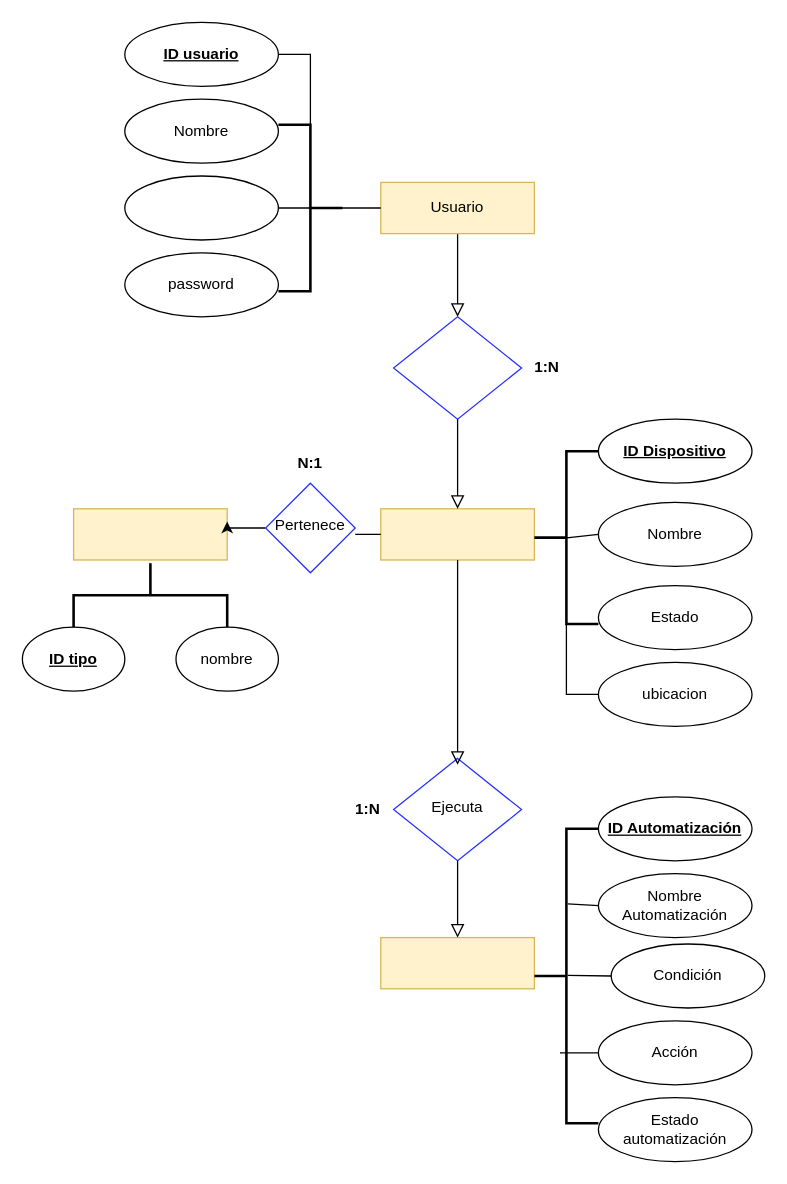
Image size: 787x1184. Some labels were removed from this diagram. Here are the shapes that lost their labels. From the top down, the centre of each, then its label:
point (201, 207): Email
point (457, 367): Gestiona
point (149, 534): Tipo Dispositivo
point (457, 534): Dispositivo
point (457, 962): Automatización
